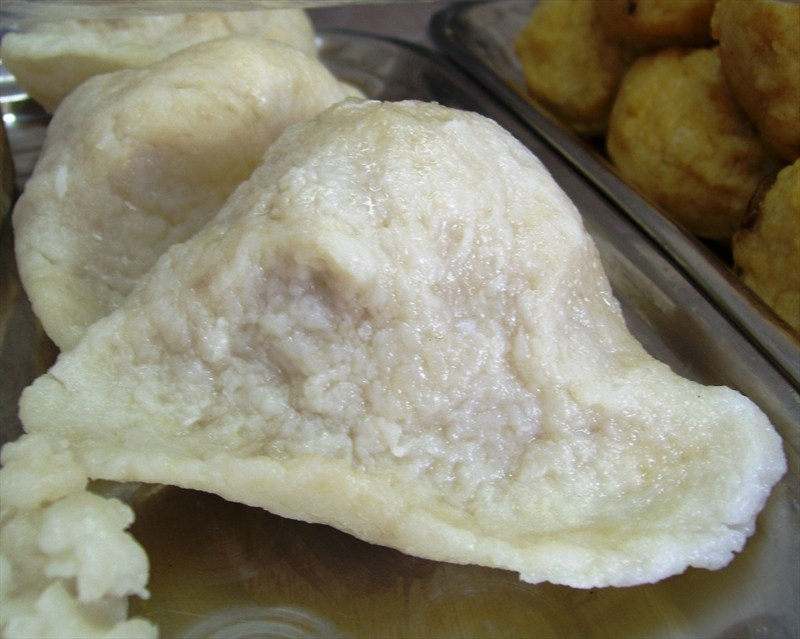Pempek: (147, 84, 733, 587)
